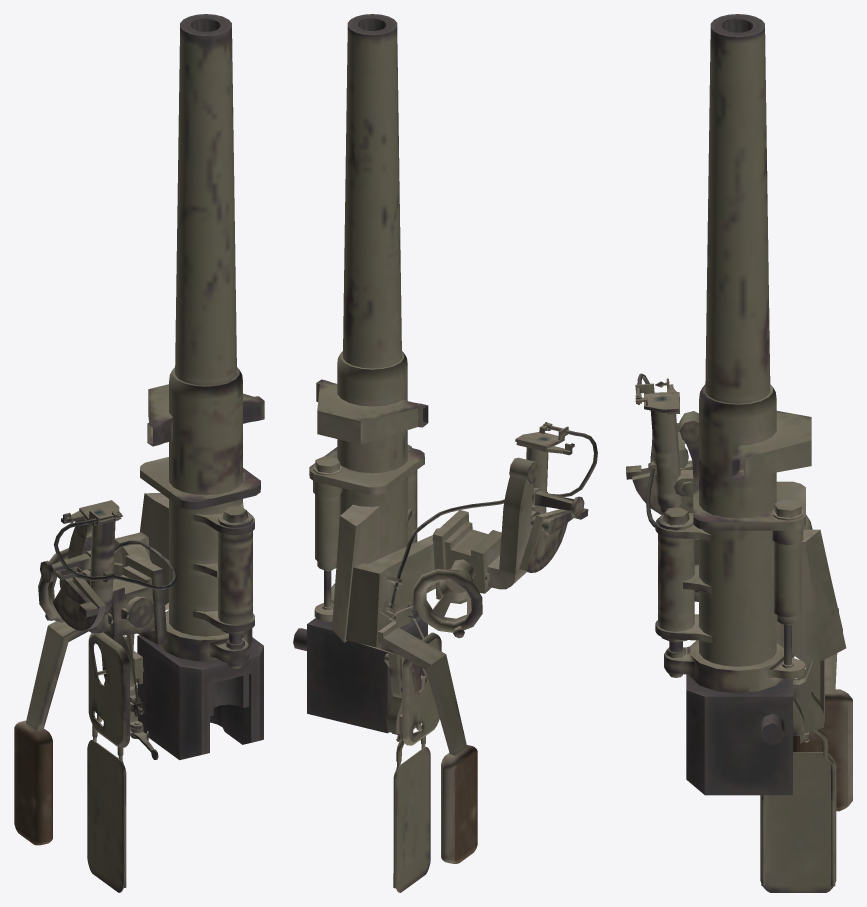
File: Gun_02.glb
The picture shows the model from 3 angles, left to right: view 1: azimuth 30°, elevation 25°; view 2: azimuth 150°, elevation 25°; view 3: azimuth 270°, elevation 25°; orthographic projection. The views are drawn at different scales.
Visible parts, largest first — view 1: set_0_group_0; view 2: set_0_group_0; view 3: set_0_group_0.
Boxes of the visible parts, bbox=[...] form: set_0_group_0: bbox=[14, 14, 264, 892]; set_0_group_0: bbox=[293, 14, 597, 892]; set_0_group_0: bbox=[626, 14, 852, 892].
Size of the model in its own units: 0.5671 by 1.84 by 0.4177.
Materials: 1 (1 with a texture image).
